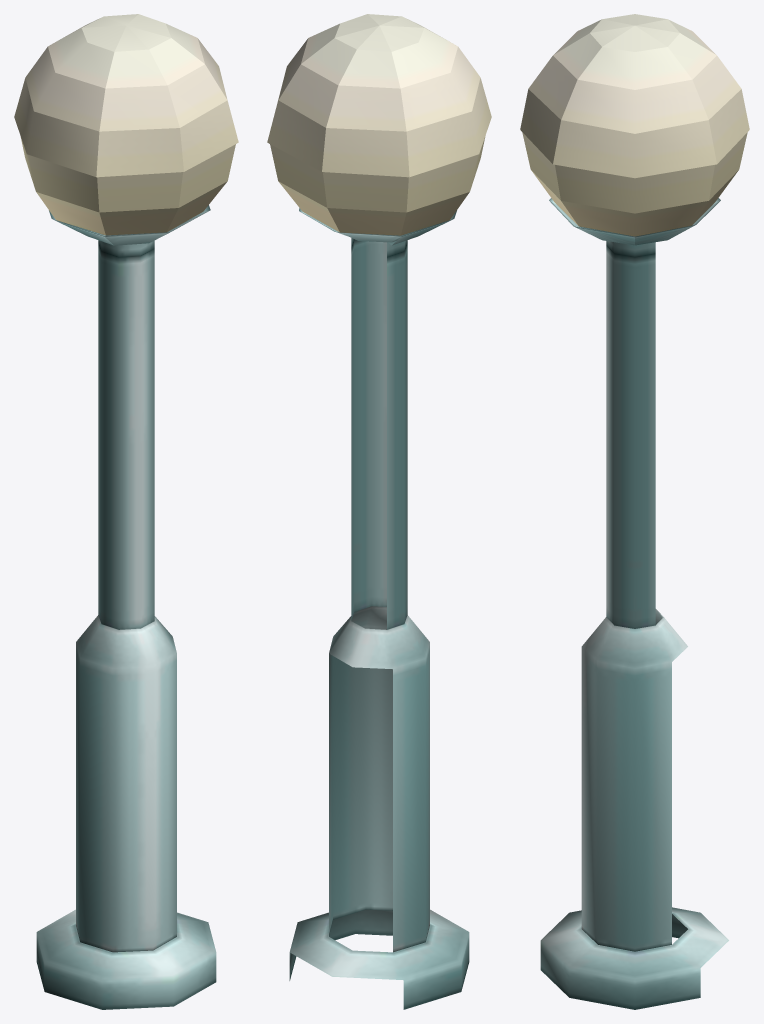
Rendered from lamp.obj.
The picture shows the model from 3 angles, left to right: view 1: azimuth 30°, elevation 25°; view 2: azimuth 150°, elevation 25°; view 3: azimuth 270°, elevation 25°; orthographic projection.
Parts seen in each view (by area): view 1: vsn_mesh_0__mesh_0_.002, vsn_mesh_1__mesh_1_.001; view 2: vsn_mesh_0__mesh_0_.002, vsn_mesh_1__mesh_1_.001; view 3: vsn_mesh_0__mesh_0_.002, vsn_mesh_1__mesh_1_.001.
Part boxes in pixels (box(x1,y1,x2,y2)): vsn_mesh_0__mesh_0_.002: box(14, 14, 238, 1009); vsn_mesh_1__mesh_1_.001: box(20, 137, 235, 236); vsn_mesh_0__mesh_0_.002: box(267, 14, 491, 1009); vsn_mesh_1__mesh_1_.001: box(270, 137, 485, 242); vsn_mesh_0__mesh_0_.002: box(520, 14, 749, 1009); vsn_mesh_1__mesh_1_.001: box(522, 132, 747, 236).
Size of the model in its own units: 16.54 by 75.03 by 16.54.
Materials: 2 (2 with a texture image).
